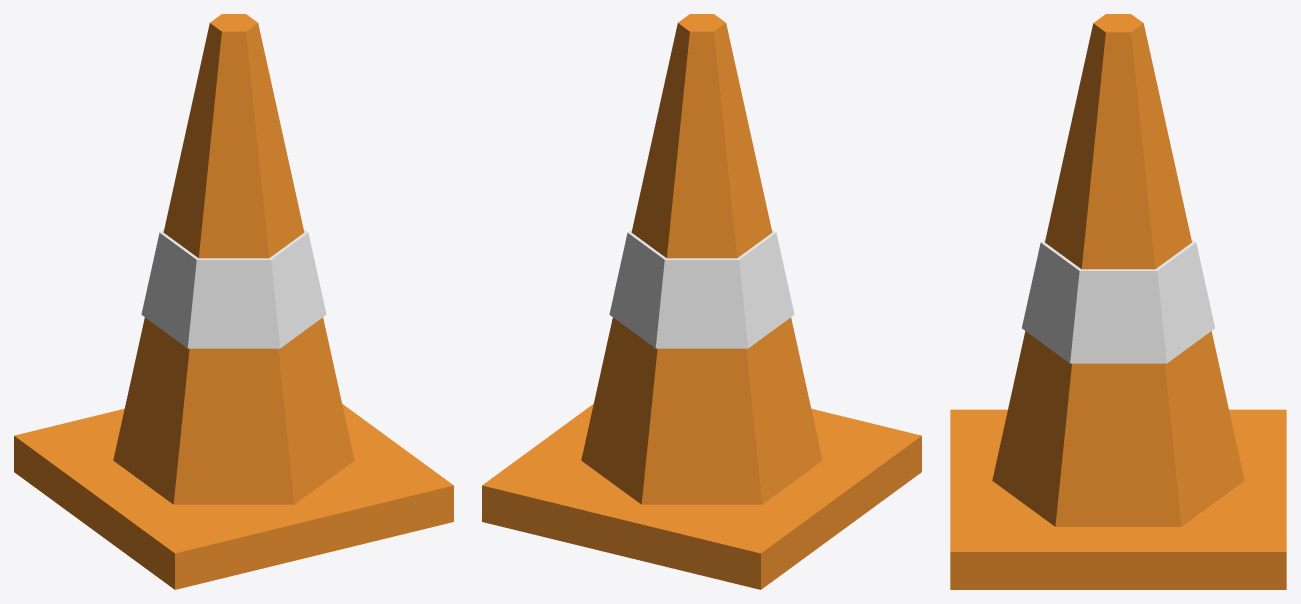
The model's file is cone_transito.glb.
The picture shows the model from 3 angles, left to right: view 1: azimuth 30°, elevation 25°; view 2: azimuth 150°, elevation 25°; view 3: azimuth 270°, elevation 25°; orthographic projection. The views are drawn at different scales.
Visible parts, largest first — view 1: corpo; view 2: corpo; view 3: corpo.
Boxes of the visible parts, x1,y1,x2,y2 form: corpo: [14, 14, 453, 589]; corpo: [482, 14, 921, 589]; corpo: [950, 14, 1286, 589].
Bounding box in the file's own units: 0.16 × 0.26 × 0.16.
